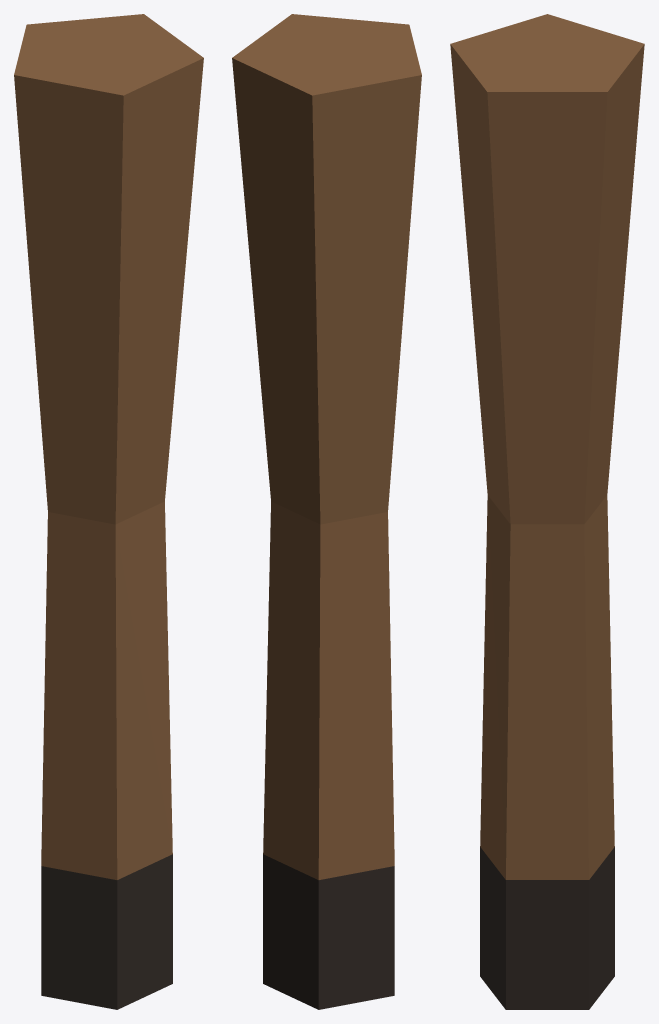
The model's file is animal_deer_leg.obj.
3 renders of one model, left to right at view 1: azimuth 30°, elevation 25°; view 2: azimuth 150°, elevation 25°; view 3: azimuth 270°, elevation 25°, orthographic.
Parts seen in each view (by area): view 1: animal_deer_leg; view 2: animal_deer_leg; view 3: animal_deer_leg.
Part boxes in pixels (<box>): animal_deer_leg: <box>14,14,203,1009</box>; animal_deer_leg: <box>232,14,421,1009</box>; animal_deer_leg: <box>450,14,644,1009</box>.
Size of the model in its own units: 0.0942 by 0.5218 by 0.099.
